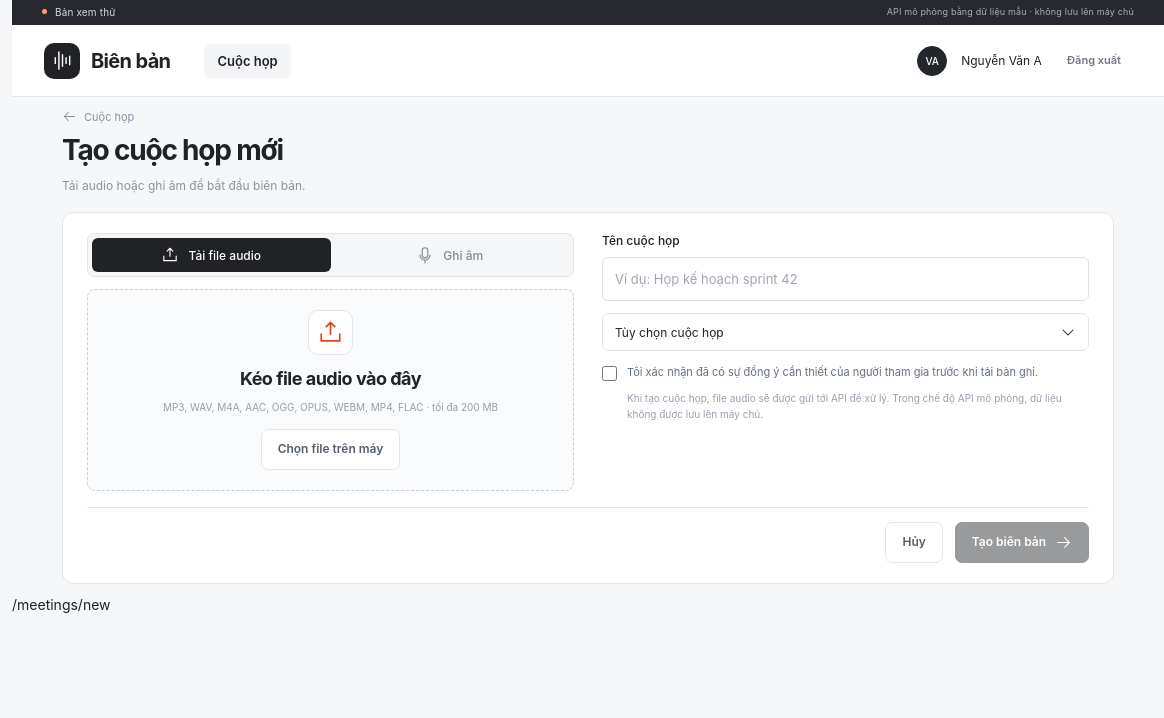
Test case: FE-03 session guard and logout › clears every query on logout and returns to login
Click the button "Đăng xuất". click: point(1094, 60)
box: top-left (1056, 46), bottom-right (1132, 76)
(page scrolled)
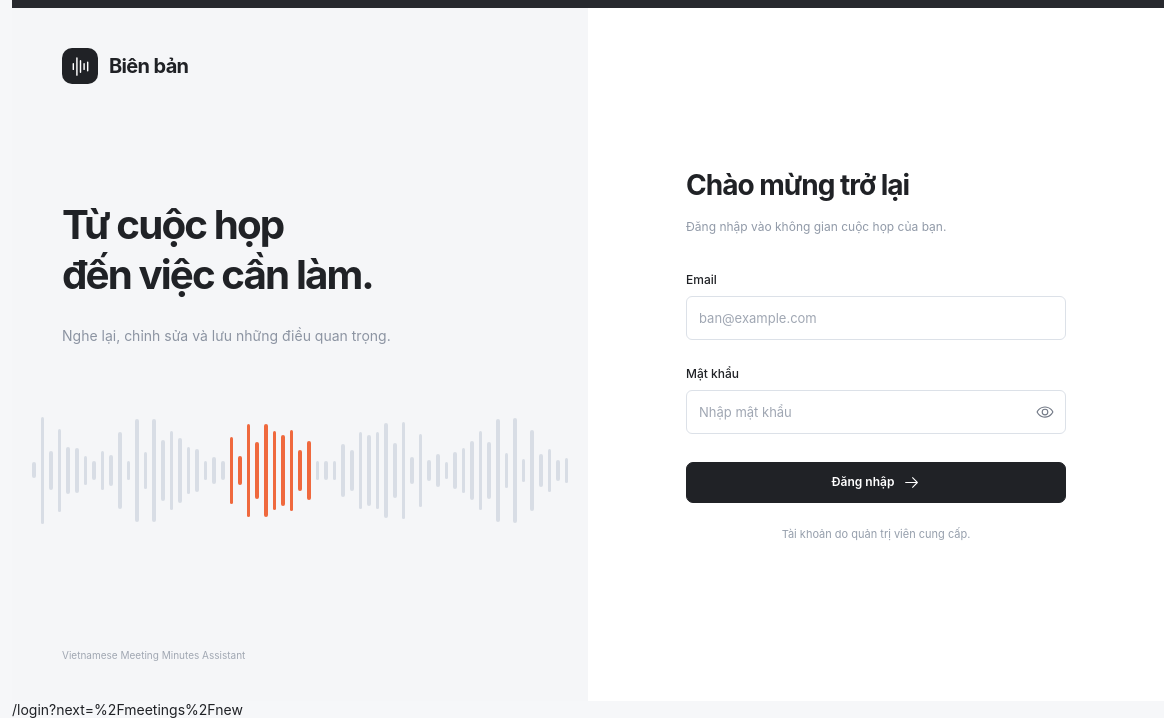
Result: the heading "Chào mừng trở lại" is shown at top-left (686, 168), bottom-right (909, 202)
Result: the text named "URL" shows "/login" at top-left (12, 701), bottom-right (243, 717)
